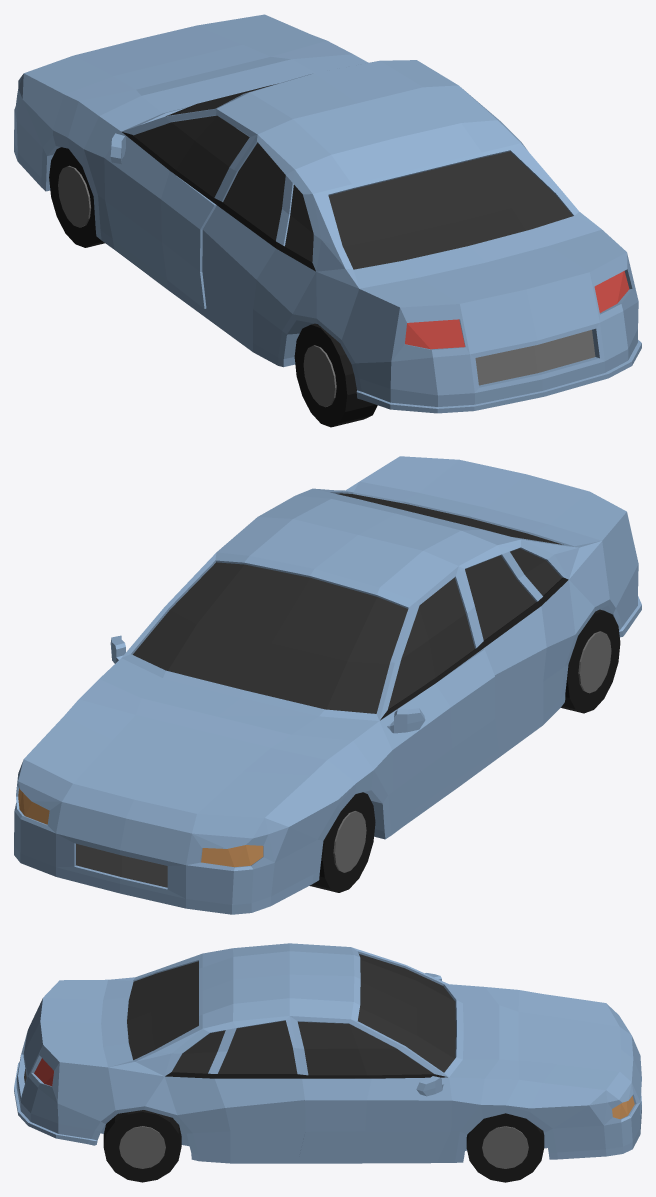
Rendered from sedan.glb.
The picture shows the model from 3 angles, top to bottom: view 1: azimuth 30°, elevation 25°; view 2: azimuth 150°, elevation 25°; view 3: azimuth 270°, elevation 25°; orthographic projection. The views are drawn at different scales.
Visible parts, largest first — view 1: Body, Wheel_RL, Wheel_FL; view 2: Body, Wheel_RL, Wheel_FL; view 3: Body, Wheel_RR, Wheel_FR.
Boxes of the visible parts, <box> form: Body: <box>14,14,641,413</box>; Wheel_RL: <box>294,323,377,427</box>; Wheel_FL: <box>49,147,104,247</box>; Body: <box>14,456,641,914</box>; Wheel_RL: <box>561,609,620,713</box>; Wheel_FL: <box>309,792,375,892</box>; Body: <box>14,943,641,1163</box>; Wheel_RR: <box>103,1110,181,1182</box>; Wheel_FR: <box>466,1113,544,1182</box>.
Size of the model in its own units: 1.97 by 1.28 by 4.6.
